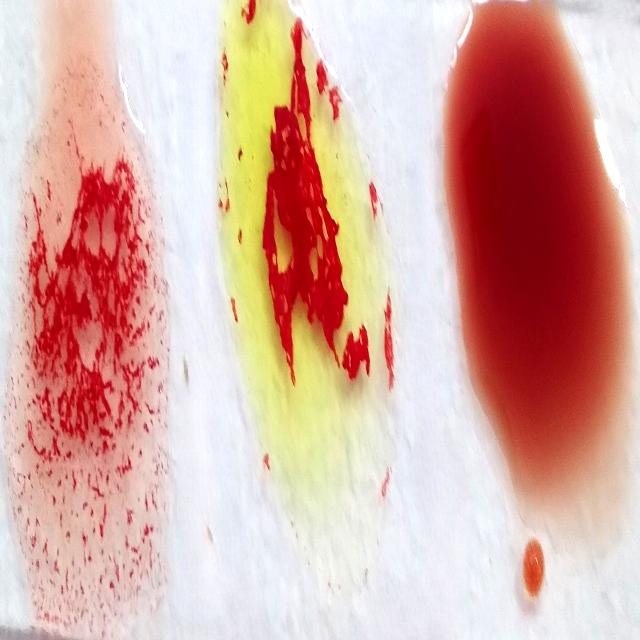B: (219, 8, 395, 512)
D: (16, 25, 154, 640)
